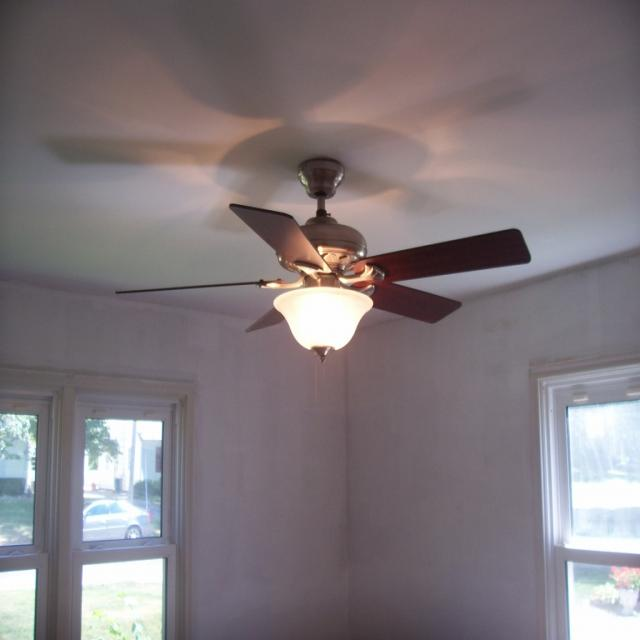Bulb: (115, 158, 532, 401)
